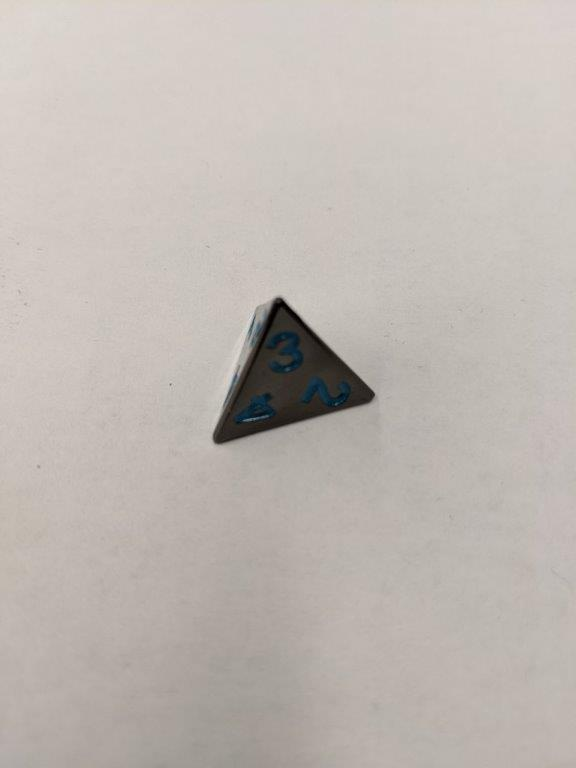d4-3: (210, 290, 379, 444)
